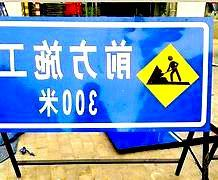sign: (1, 18, 206, 129)
